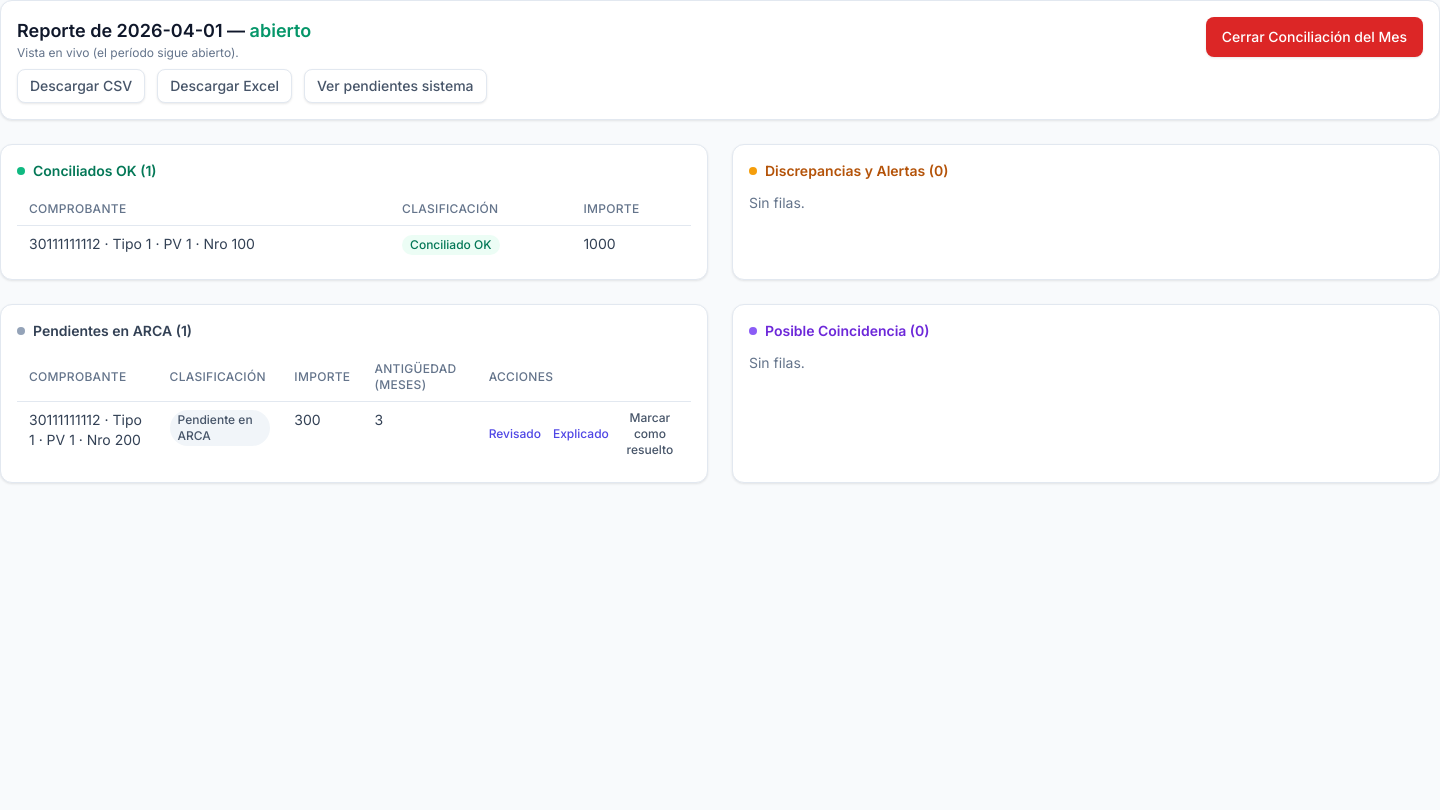
Scenario: T31: PeriodoReportViewer › shows the Cerrar Conciliación del Mes button only while abierto, and confirms before closing
Click the button "Cerrar Conciliación del Mes". click: (1314, 37)
box: [1206, 17, 1423, 57]
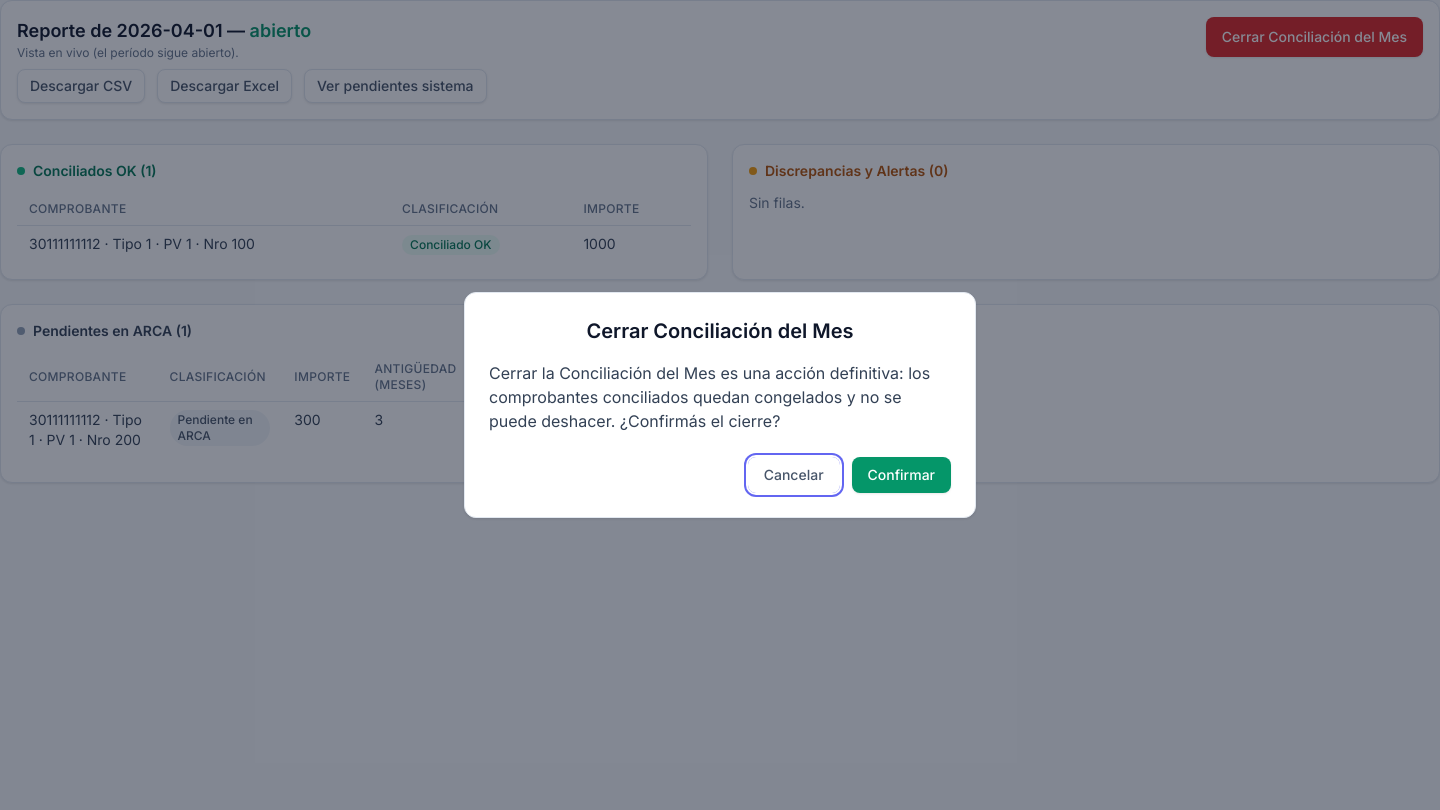
Click the button "Confirmar". click: (901, 475)
box: [852, 457, 951, 493]
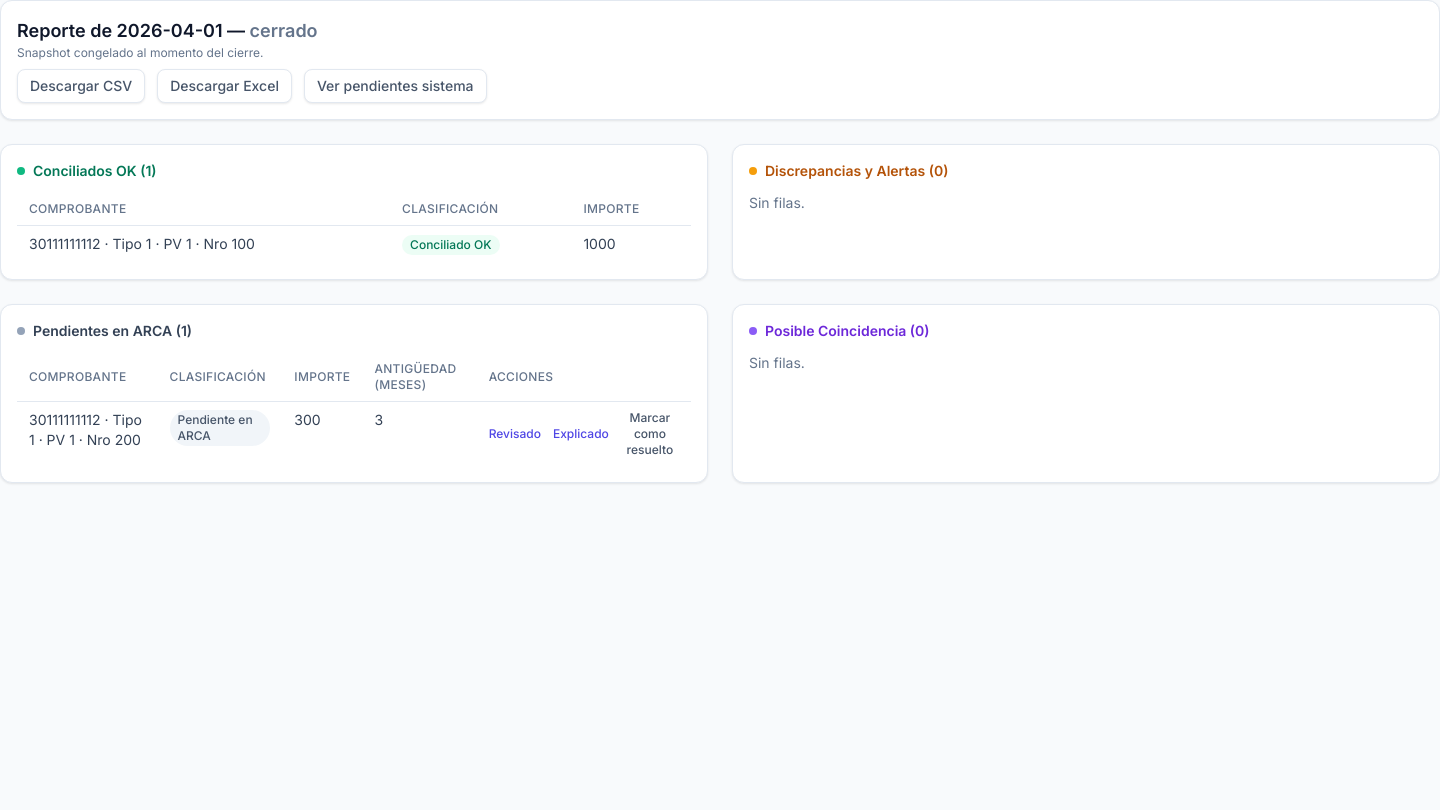
Now the button "Cerrar Conciliación del Mes" is gone
